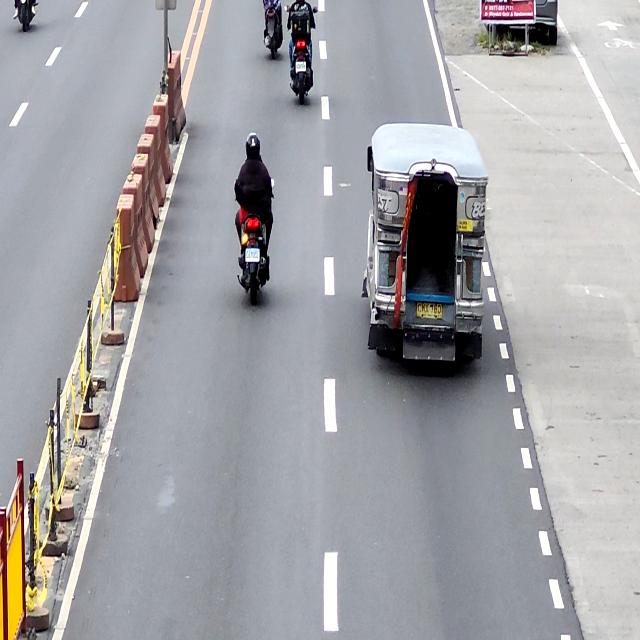Jeep: (364, 121, 489, 366)
License-Plate: (415, 303, 443, 318), (245, 248, 260, 262), (294, 61, 307, 72)
Motorcycle: (233, 179, 275, 305), (284, 4, 320, 100), (263, 0, 282, 61)
